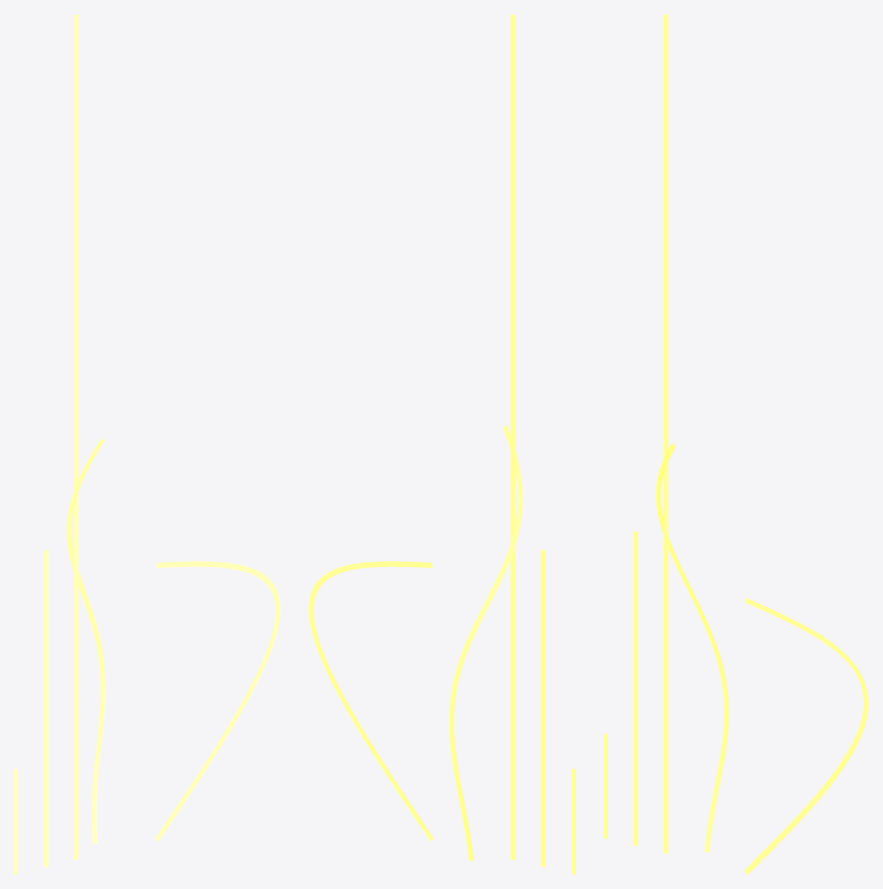
Rendered from spirit_thread.glb.
3 views of the same model, side by side, from view 1: azimuth 30°, elevation 25°; view 2: azimuth 150°, elevation 25°; view 3: azimuth 330°, elevation 25° (orthographic).
Visible parts, largest first — view 1: thread_long, thread_curve_arc, thread_curve, thread_mid; view 2: thread_long, thread_curve, thread_curve_arc, thread_mid; view 3: thread_long, thread_curve, thread_curve_arc, thread_mid.
Part boxes in pixels (box(x1,y1,x2,y2)): thread_long: box(74, 14, 78, 860); thread_curve_arc: box(155, 561, 280, 840); thread_curve: box(67, 439, 105, 844); thread_mid: box(44, 549, 48, 867); thread_long: box(511, 14, 515, 860); thread_curve: box(449, 425, 523, 860); thread_curve_arc: box(309, 561, 434, 840); thread_mid: box(541, 549, 545, 867); thread_long: box(663, 14, 668, 853); thread_curve: box(656, 443, 729, 852); thread_curve_arc: box(744, 598, 868, 874); thread_mid: box(633, 531, 638, 846).
Size of the model in its own units: 2.64 by 8.02 by 0.4589.
